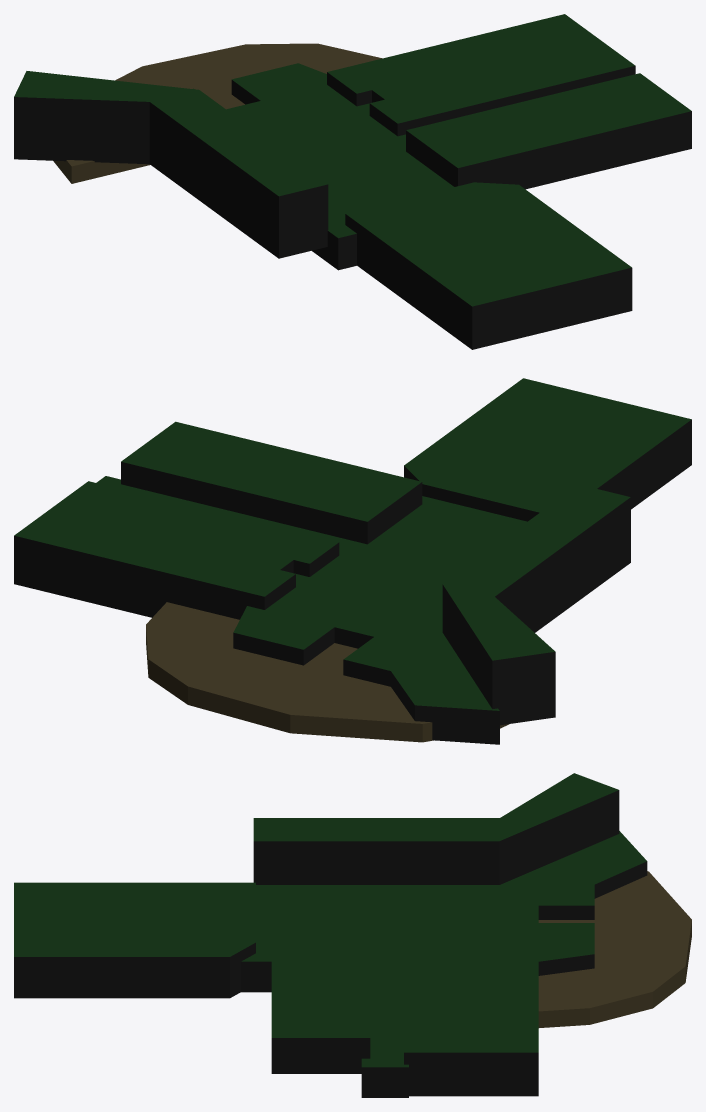
The model's file is Test Land 1.1.fbx.
3 views of the same model, one above another, from view 1: azimuth 30°, elevation 25°; view 2: azimuth 150°, elevation 25°; view 3: azimuth 270°, elevation 25° (orthographic). The views are drawn at different scales.
Parts seen in each view (by area): view 1: Lv4, Mountain, Lv3, Lv2, Lv1, Lv0; view 2: Lv1, Lv2, Lv4, Mountain, Lv0, Lv3; view 3: Lv1, Lv4, Mountain, Lv2, Lv0, Lv3.
Part boxes in pixels (bbox=[...]): Lv4: bbox=[345, 182, 632, 349]; Mountain: bbox=[14, 71, 328, 258]; Lv3: bbox=[406, 73, 691, 189]; Lv2: bbox=[327, 14, 635, 136]; Lv1: bbox=[193, 63, 453, 270]; Lv0: bbox=[53, 43, 382, 183]; Lv1: bbox=[96, 476, 526, 744]; Lv2: bbox=[14, 481, 339, 619]; Lv4: bbox=[404, 378, 691, 521]; Mountain: bbox=[442, 484, 630, 725]; Lv0: bbox=[146, 602, 509, 742]; Lv3: bbox=[121, 421, 422, 544]; Lv1: bbox=[241, 831, 647, 1097]; Lv4: bbox=[14, 882, 255, 998]; Mountain: bbox=[253, 773, 619, 884]; Lv2: bbox=[404, 942, 538, 1096]; Lv0: bbox=[538, 871, 691, 1027]; Lv3: bbox=[271, 929, 370, 1073].
Size of the model in its own units: 16016 by 18329 by 2257.
